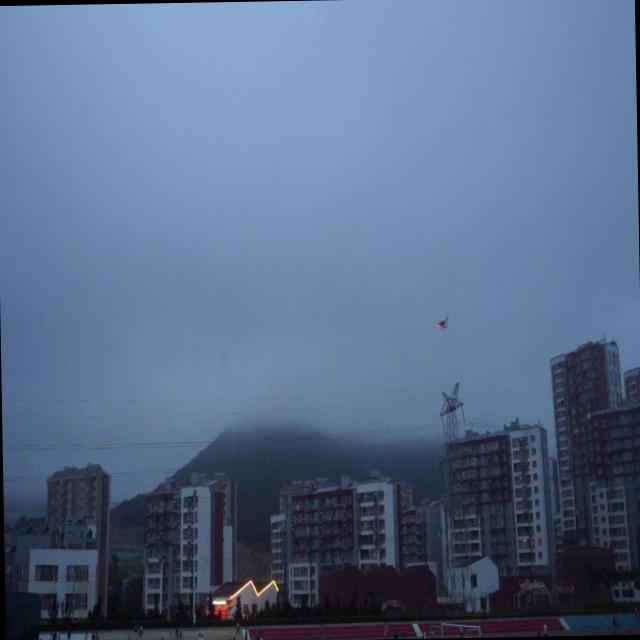drone: (434, 312, 450, 334)
